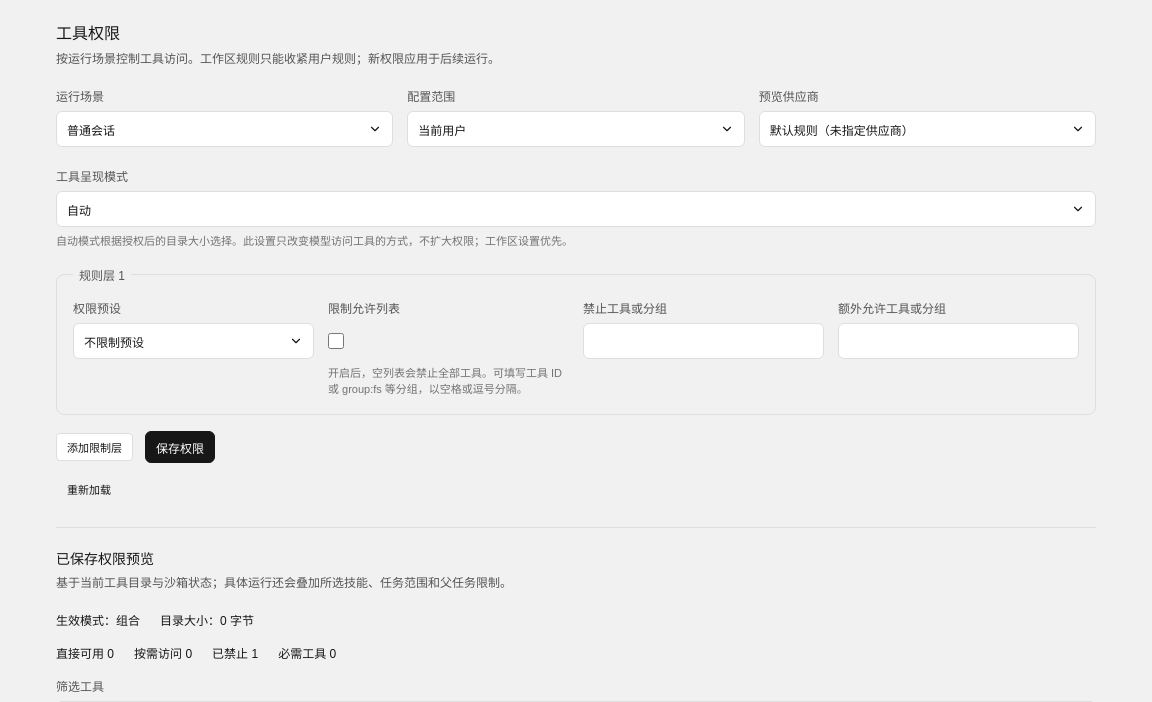
Test: ToolPolicyPanel › keeps the draft after save failure and requires reload for conflicts
This screenshot has width=1152, height=702.
In the field labelled "禁止工具或分组": (704, 341) 583,323 -> 824,359, type "group:fs"
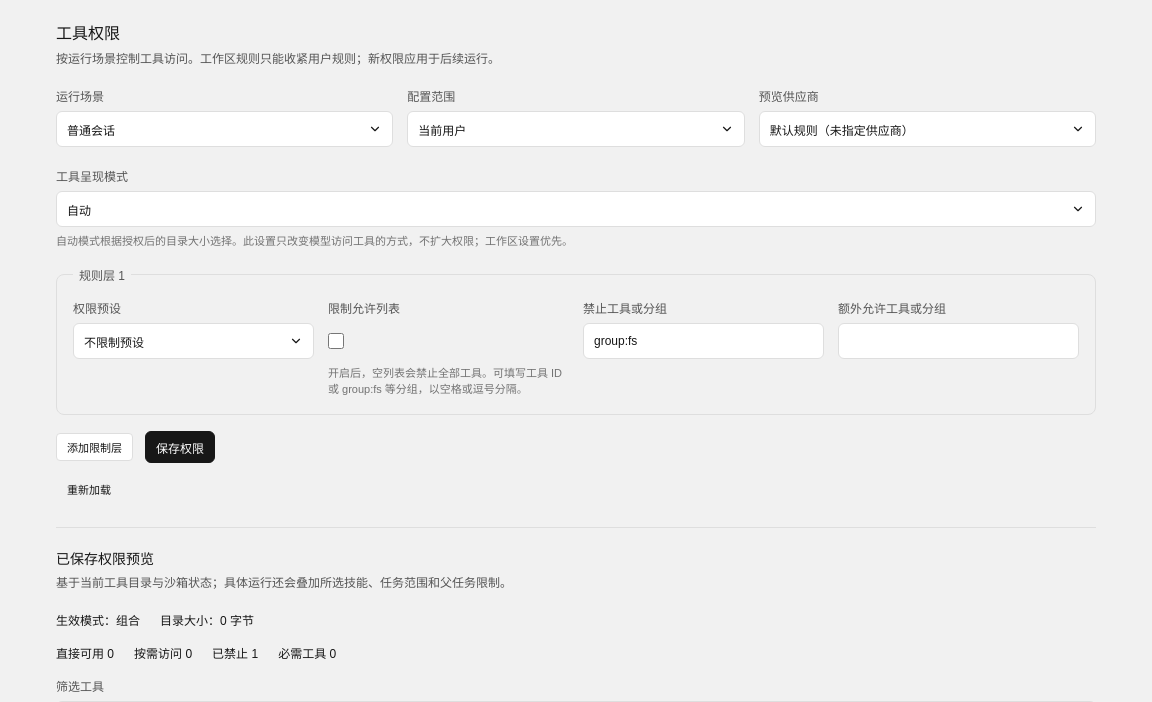
Click the button "保存权限": (180, 447) 145,431 -> 215,463
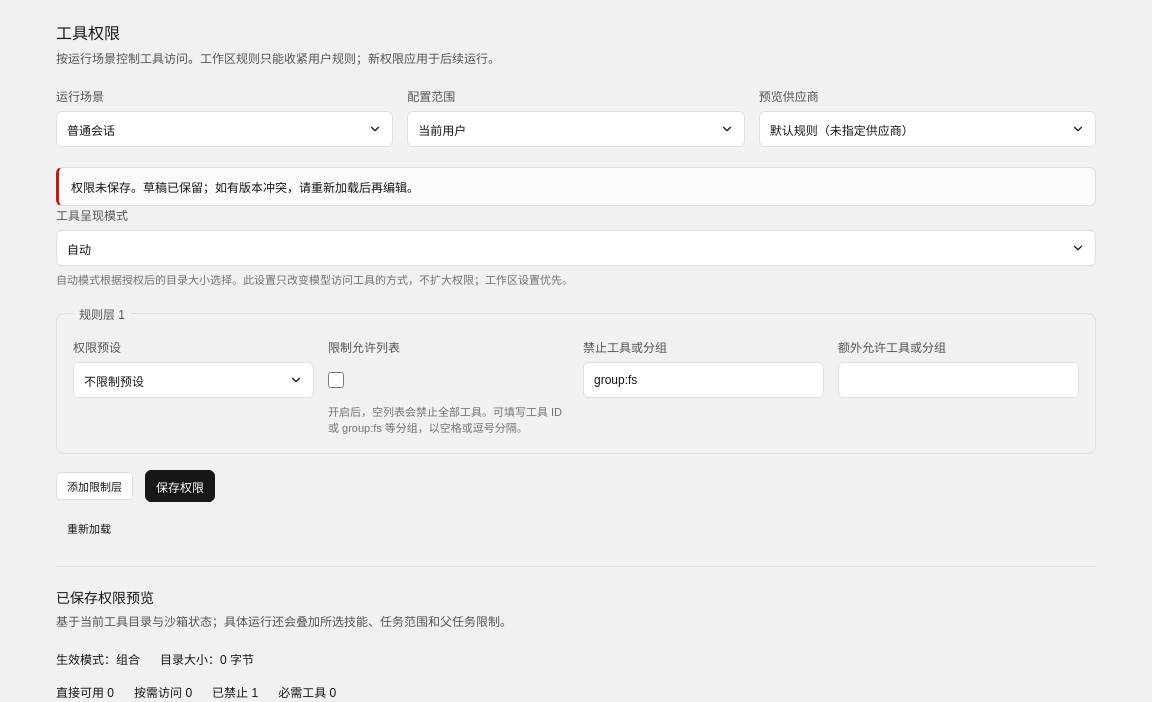
Now the message shows "权限未保存", box 71,181 -> 419,195
